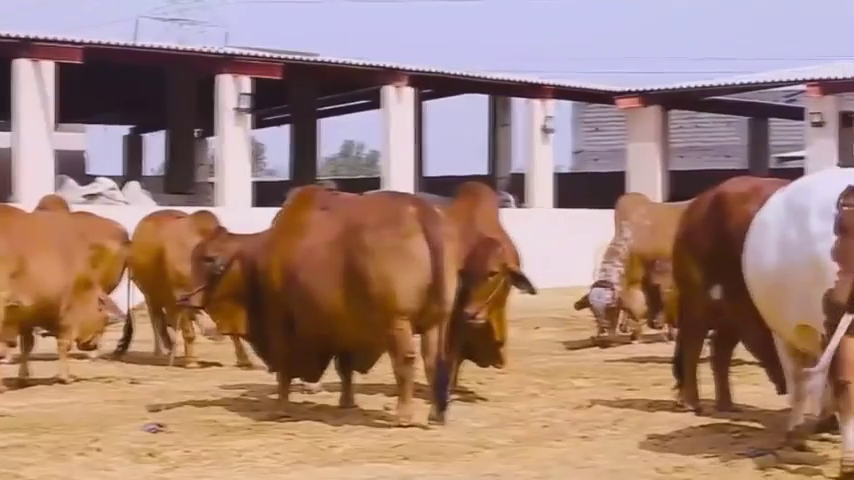bo: (188, 175, 450, 433), (736, 158, 848, 468), (666, 172, 787, 404), (418, 172, 542, 393), (125, 198, 254, 373), (565, 183, 689, 347), (4, 204, 111, 376), (69, 195, 132, 293), (634, 252, 697, 347)
